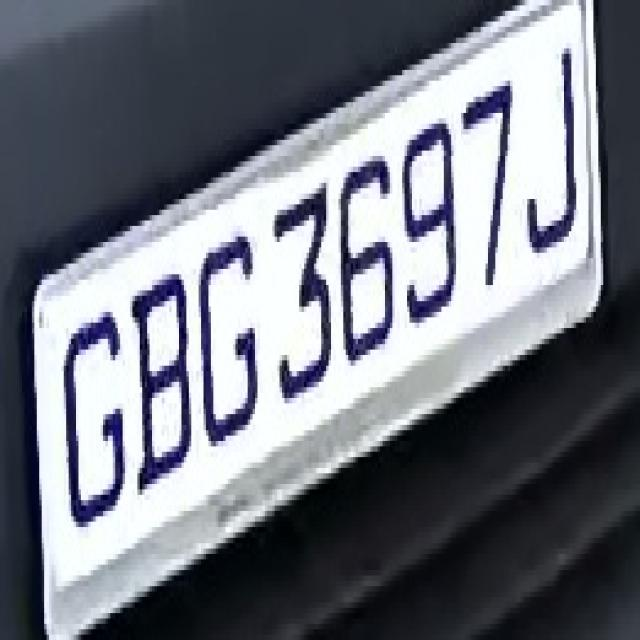3: (267, 194, 331, 430)
6: (338, 129, 402, 371)
7: (453, 75, 518, 312)
9: (392, 102, 458, 334)
B: (128, 263, 201, 495)
G: (54, 285, 127, 538), (196, 231, 265, 452)
J: (527, 27, 579, 285)
